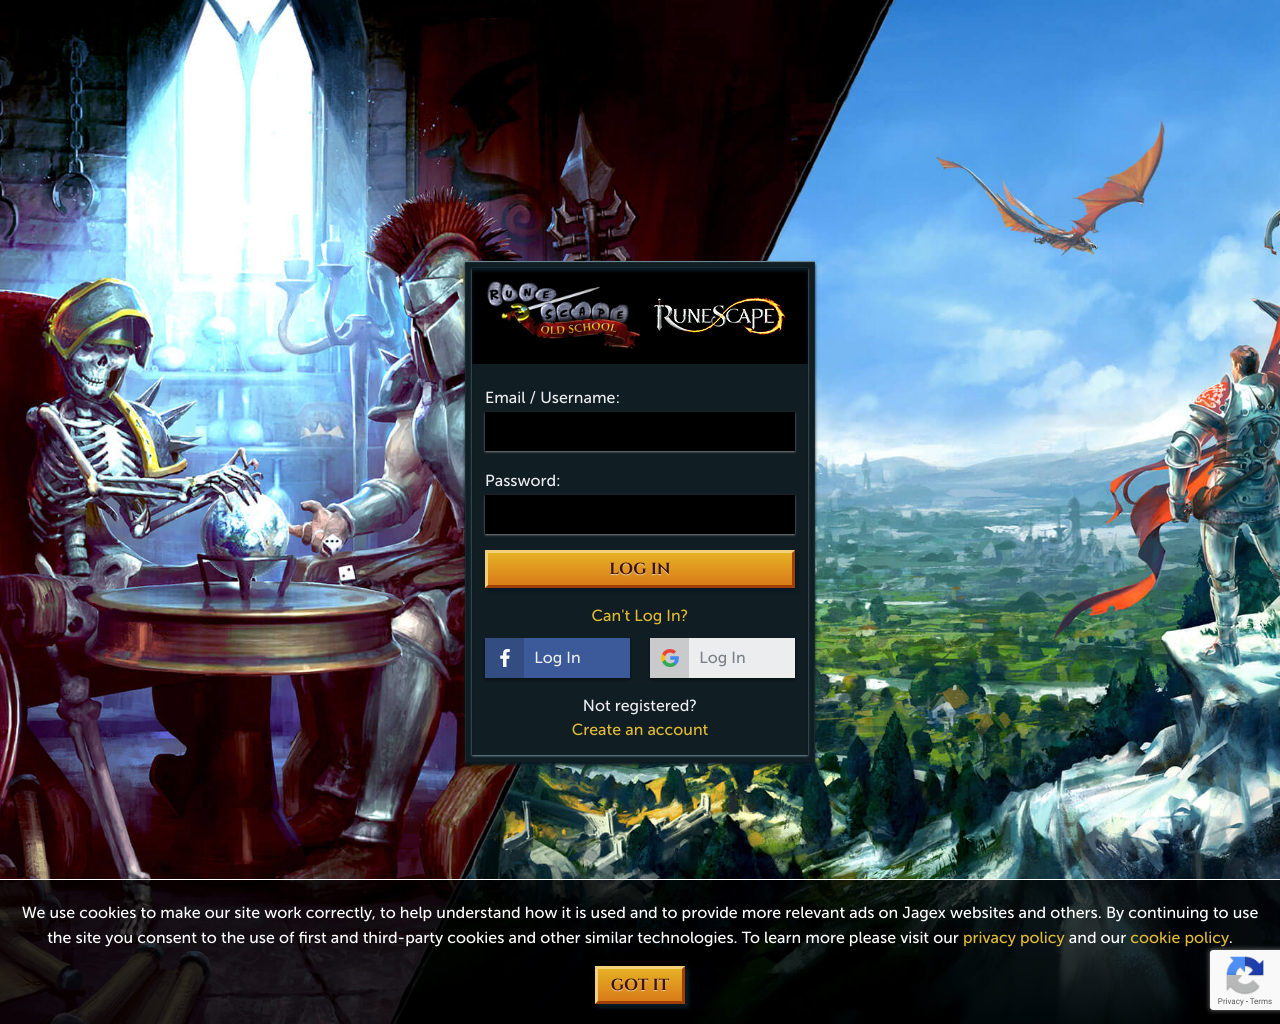Runescape: (483, 282, 637, 359), (655, 280, 791, 352)
